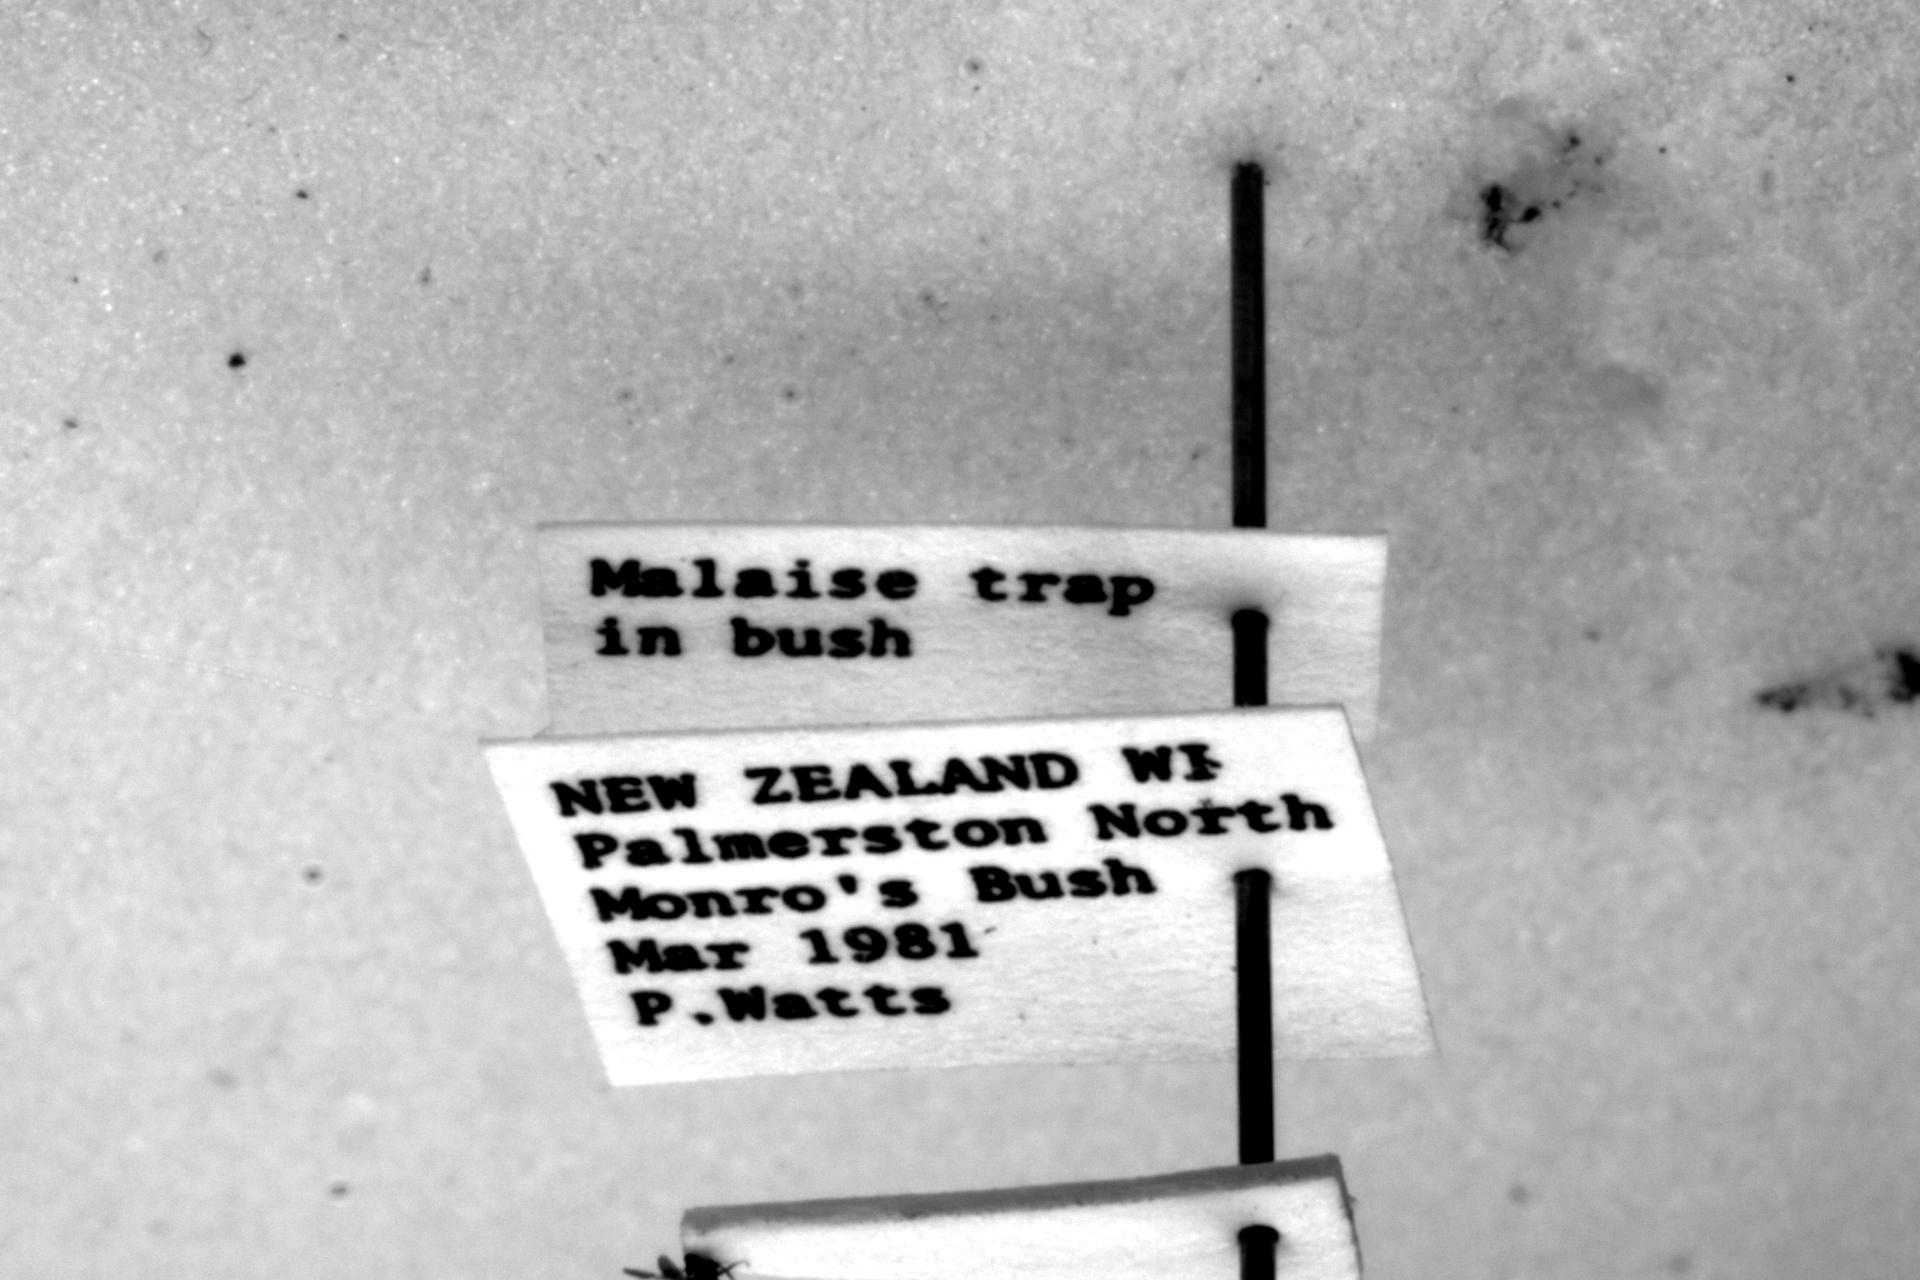typed_label: (487, 709, 1433, 1084), (540, 526, 1387, 739)
